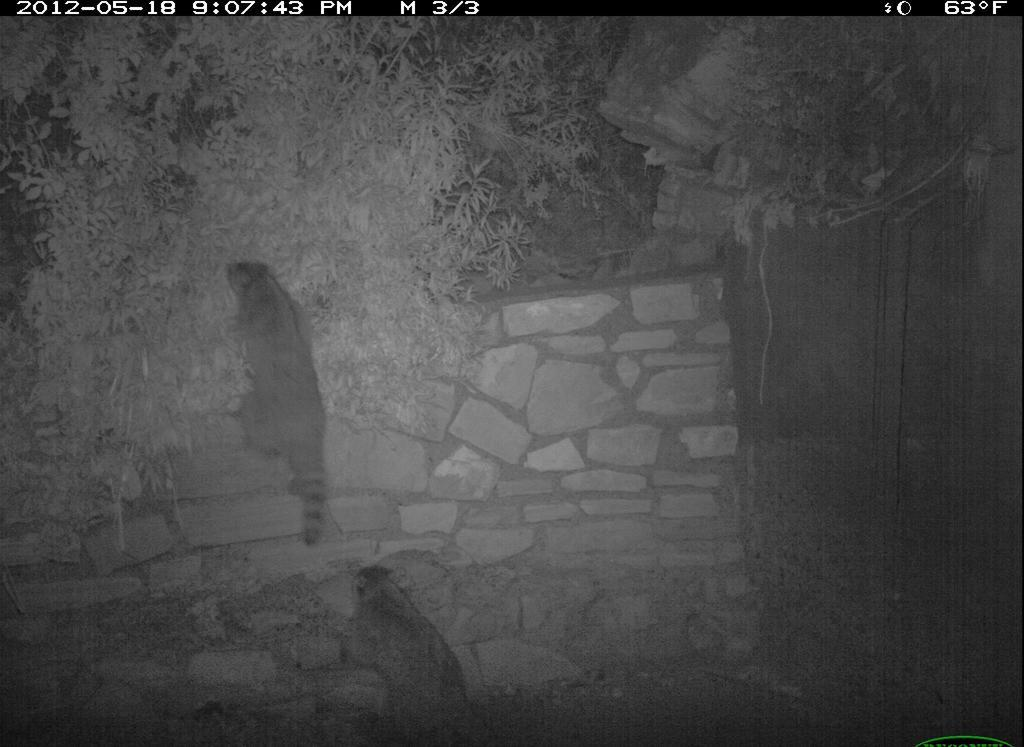raccoon: (218, 246, 338, 552), (340, 561, 507, 747)
